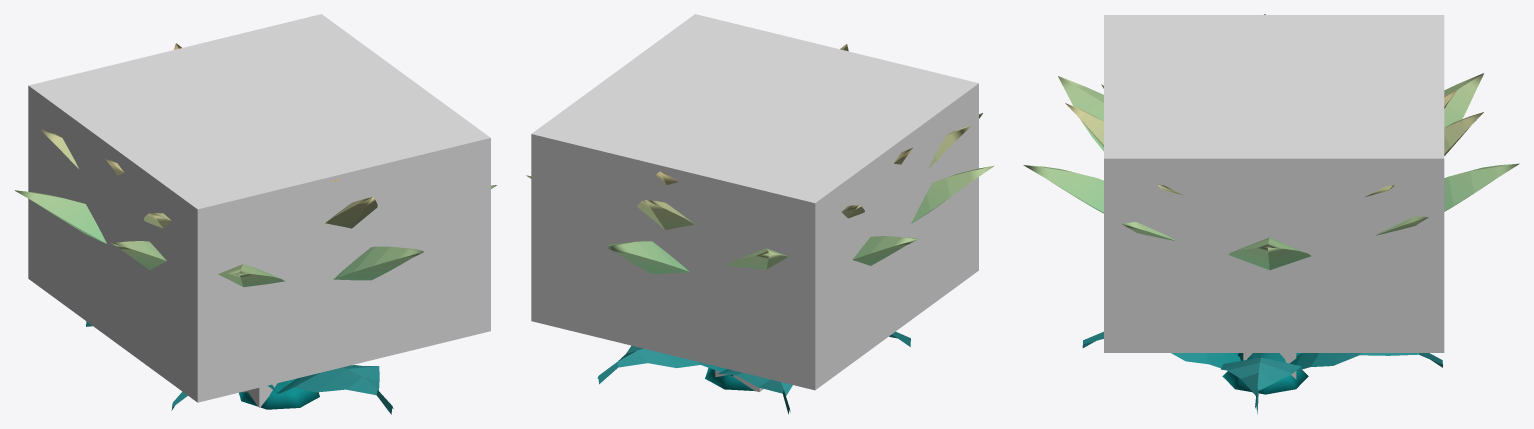
Rendered from Plant_Collector_01.fbx.
3 renders of one model, left to right at view 1: azimuth 30°, elevation 25°; view 2: azimuth 150°, elevation 25°; view 3: azimuth 270°, elevation 25°, orthographic. The views are drawn at different scales.
Parts seen in each view (by area): view 1: INTERACT_01, Plant_Collector_01; view 2: INTERACT_01, Plant_Collector_01; view 3: INTERACT_01, Plant_Collector_01.
Part boxes in pixels (x1,y1,x2,y2): INTERACT_01: (28,14,490,402); Plant_Collector_01: (15,43,496,414); INTERACT_01: (531,14,978,390); Plant_Collector_01: (526,44,994,414); INTERACT_01: (1104,15,1444,352); Plant_Collector_01: (1023,14,1519,414).
Size of the model in its own units: 3.61 by 2.34 by 3.74.
